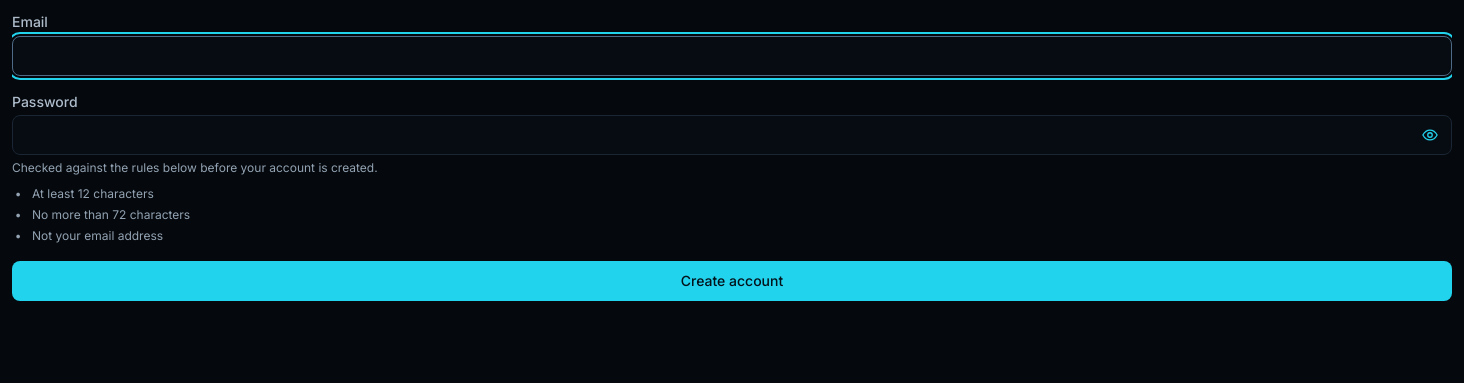
it: a failed submission › shows a generic failure and stays on the screen
The image size is (1464, 383).
In the field labelled "Email": (732, 56) [12,36,1452,76], type "sam@example.test"
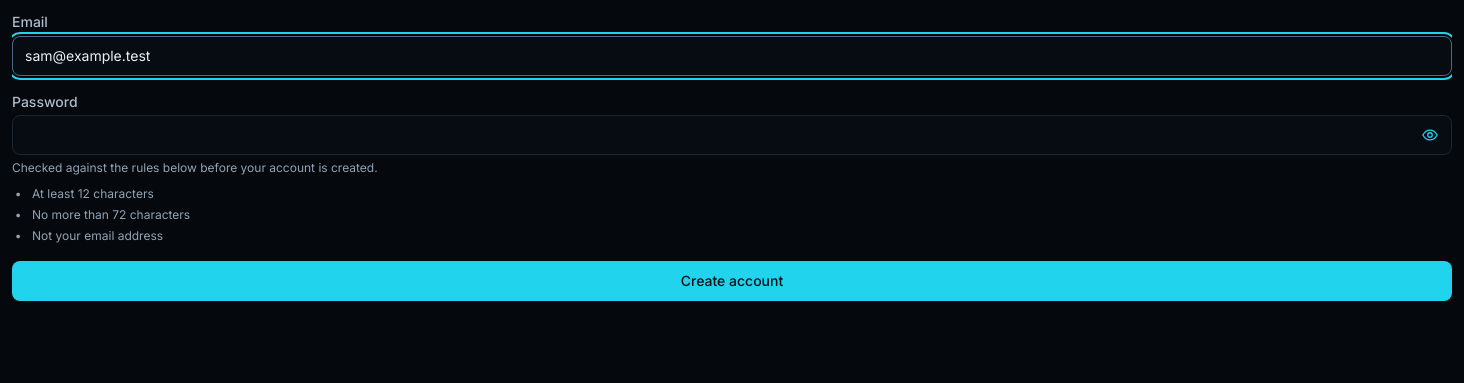
In the password field labelled "Password": (711, 135) [13,116,1409,154], type "correct-horse-battery-staple"
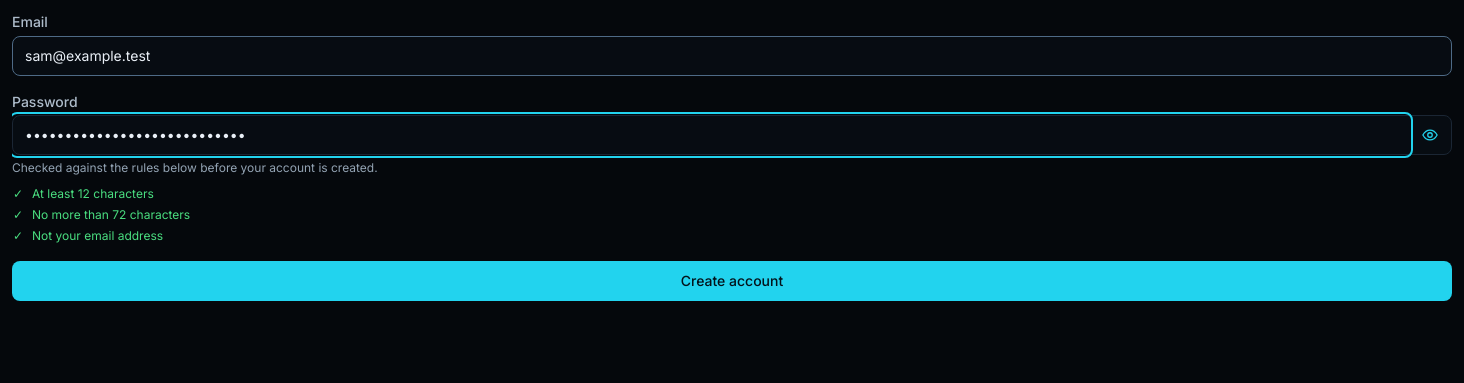
Click the button "Create account": (732, 281) [12,261,1452,301]
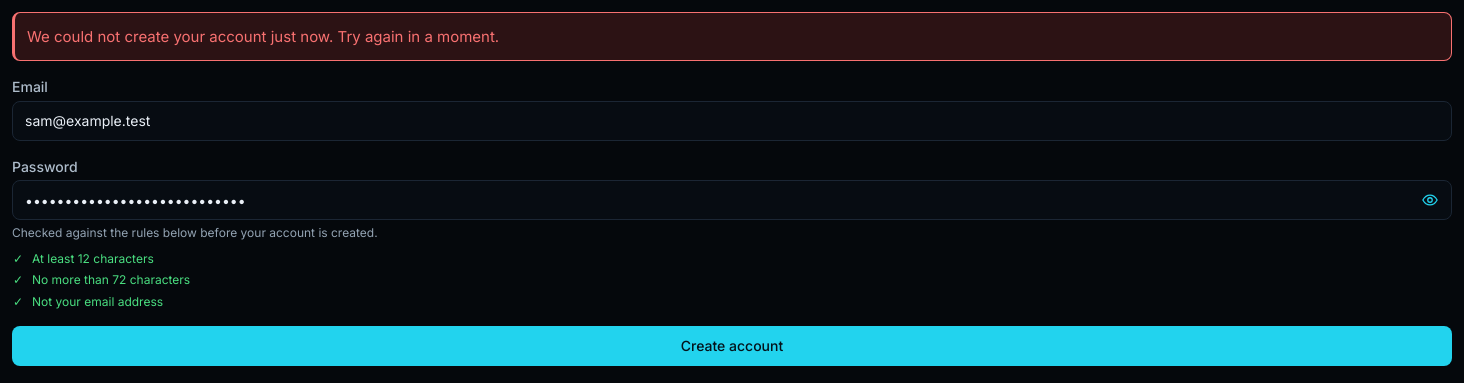
expect the button "Create account" is enabled: met, box [12,326,1452,366]
expect the message shows "could not create your account": met, box [27,27,499,46]
